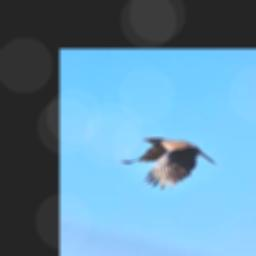Crow: (119, 137, 217, 189)
